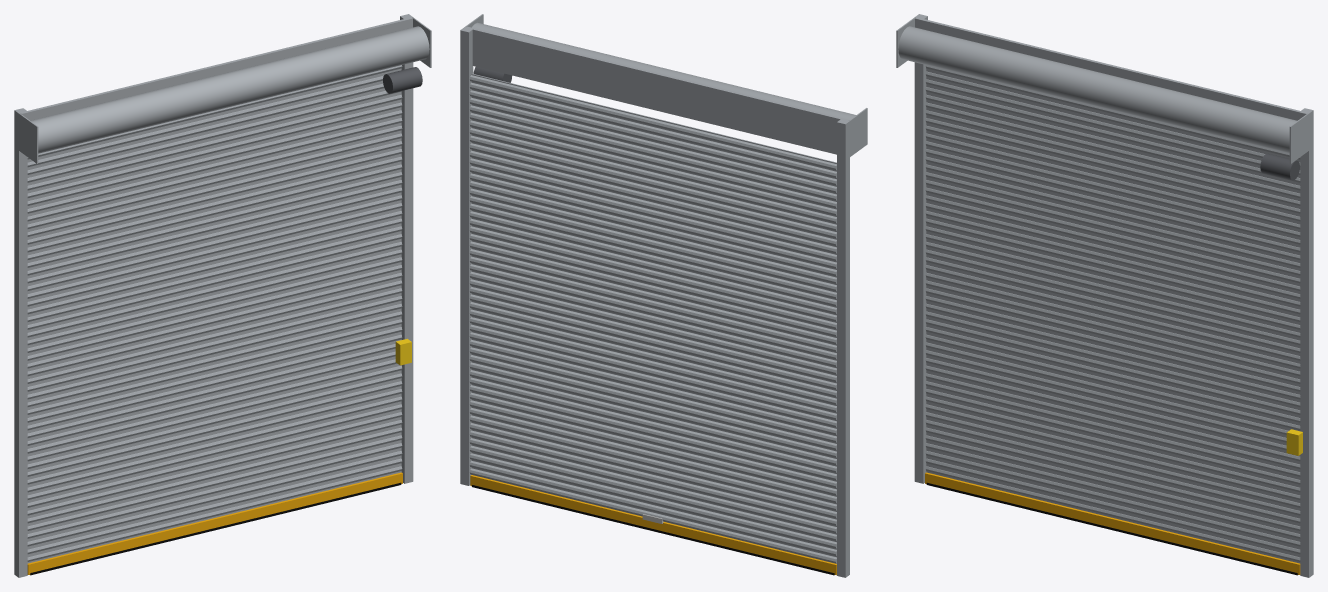
The model's file is opening.door.vehicle_roller_industrial.glb.
3 views of the same model, side by side, from view 1: azimuth 30°, elevation 25°; view 2: azimuth 150°, elevation 25°; view 3: azimuth 330°, elevation 25° (orthographic). The views are drawn at different scales.
Parts seen in each view (by area): view 1: leaf__steel_galvanised, frame__steel_galvanised, leaf__plant_yellow, leaf__rubber, ironmongery__plastic_grey; view 2: leaf__steel_galvanised, frame__steel_galvanised, leaf__plant_yellow, leaf__rubber; view 3: leaf__steel_galvanised, frame__steel_galvanised, leaf__plant_yellow, leaf__rubber, ironmongery__plastic_grey.
Part boxes in pixels (bbox=[...]): leaf__steel_galvanised: bbox=[27, 65, 402, 563]; frame__steel_galvanised: bbox=[14, 14, 431, 577]; leaf__plant_yellow: bbox=[27, 472, 402, 574]; leaf__rubber: bbox=[30, 482, 401, 575]; ironmongery__plastic_grey: bbox=[383, 67, 422, 93]; leaf__steel_galvanised: bbox=[469, 73, 836, 563]; frame__steel_galvanised: bbox=[460, 14, 867, 577]; leaf__plant_yellow: bbox=[470, 475, 836, 575]; leaf__rubber: bbox=[472, 485, 834, 575]; leaf__steel_galvanised: bbox=[925, 65, 1300, 563]; frame__steel_galvanised: bbox=[896, 14, 1313, 577]; leaf__plant_yellow: bbox=[925, 472, 1300, 574]; leaf__rubber: bbox=[926, 482, 1297, 575]; ironmongery__plastic_grey: bbox=[1260, 153, 1299, 180].
Bounding box in the file's own units: 4 × 4.5 × 0.41.
